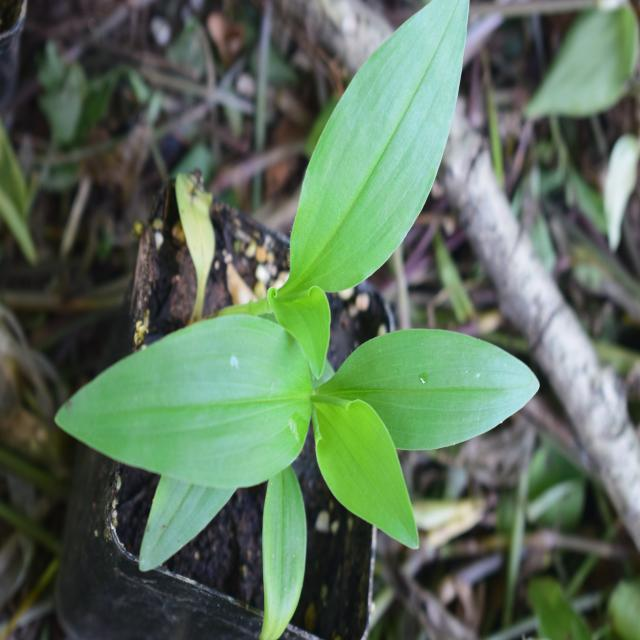Common Dayflower: (48, 256, 527, 556), (274, 12, 487, 266)
